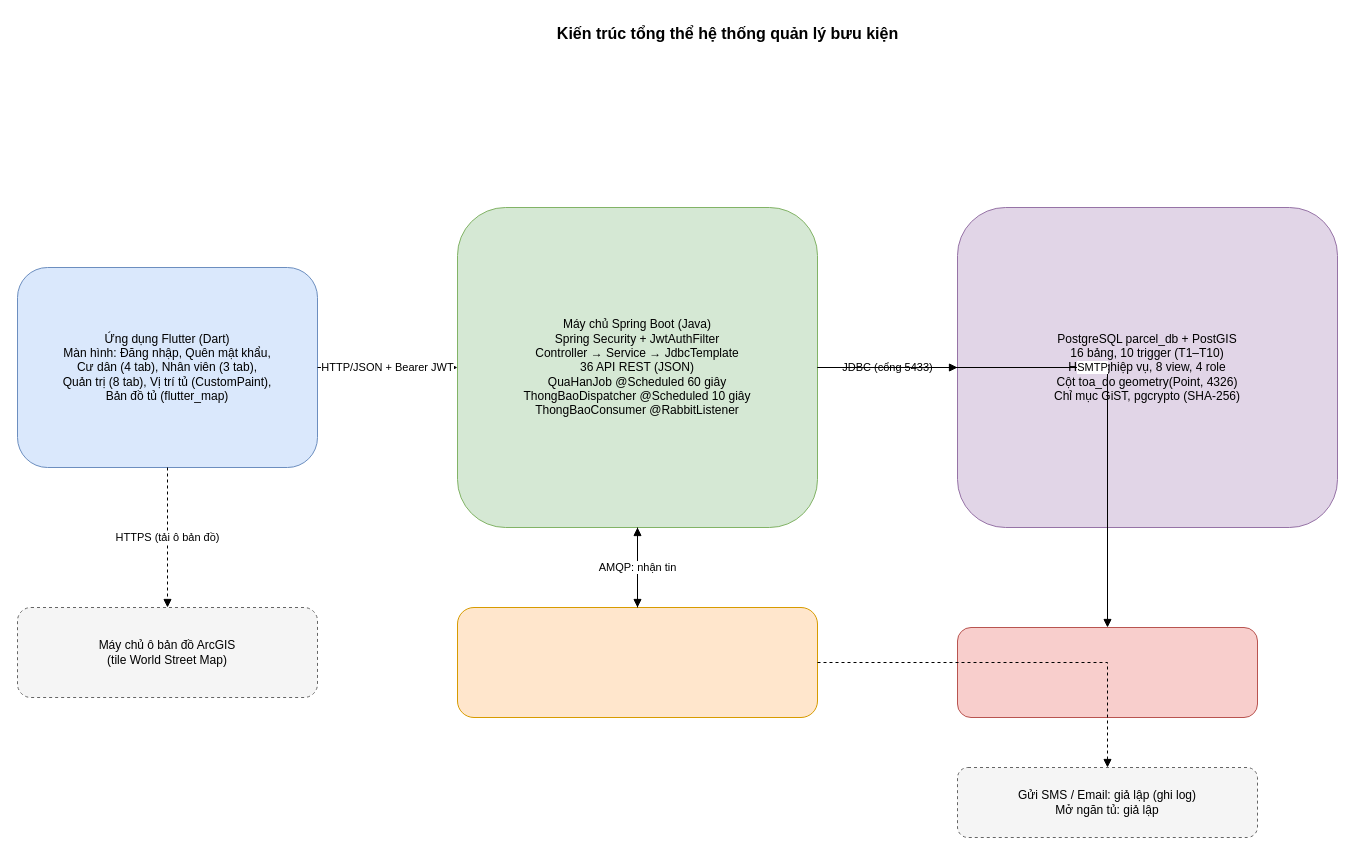
The diagram is 1355 pixels wide and 855 high, and some of its shapes have lost their labels. The shapes that lost their labels are listed below. From the top down, each one's centre as x and y in pixels, then its label:
At point (637, 662): "RabbitMQ (cổng 5672) Hàng đợi bền thong_bao.gui".
At point (1107, 672): "Gmail SMTP (cổng 587) Gửi OTP quên mật khẩu".
